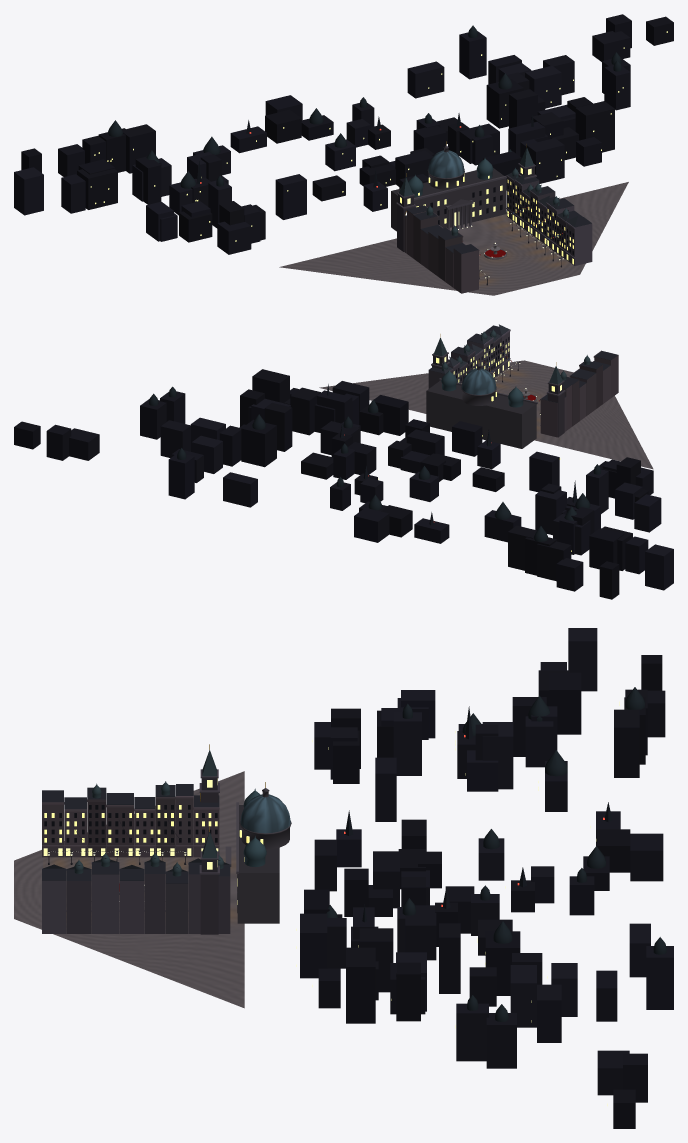
Rendered from backdrop_4.glb.
The picture shows the model from 3 angles, top to bottom: view 1: azimuth 30°, elevation 25°; view 2: azimuth 150°, elevation 25°; view 3: azimuth 270°, elevation 25°; orthographic projection. The views are drawn at different scales.
Visible parts, largest first — view 1: far_city, mid_square, lm_rows, lm_hall, fg_square, lm_towers, lm_rows_lights; view 2: far_city, mid_square, lm_rows, lm_hall, lm_towers, fg_square; view 3: far_city, lm_rows, mid_square, lm_hall, lm_towers, fg_square, lm_rows_lights.
Boxes of the visible parts, x1,y1,x2,y2 form: far_city: (14, 14, 673, 254); mid_square: (279, 182, 628, 290); lm_rows: (404, 168, 592, 293); lm_hall: (391, 141, 506, 231); fg_square: (468, 263, 585, 295); lm_towers: (396, 144, 536, 251); lm_rows_lights: (507, 179, 573, 264); far_city: (14, 369, 673, 599); mid_square: (319, 367, 653, 469); lm_rows: (428, 324, 618, 437); lm_hall: (426, 360, 537, 448); lm_towers: (431, 334, 565, 437); fg_square: (510, 360, 573, 377); far_city: (300, 628, 673, 1128); lm_rows: (42, 781, 230, 933); mid_square: (43, 771, 244, 1008); lm_hall: (225, 782, 291, 923); lm_towers: (199, 744, 219, 934); fg_square: (14, 850, 43, 929); lm_rows_lights: (43, 805, 218, 855).
Bounding box in the file's own units: 305 × 34 × 189.
